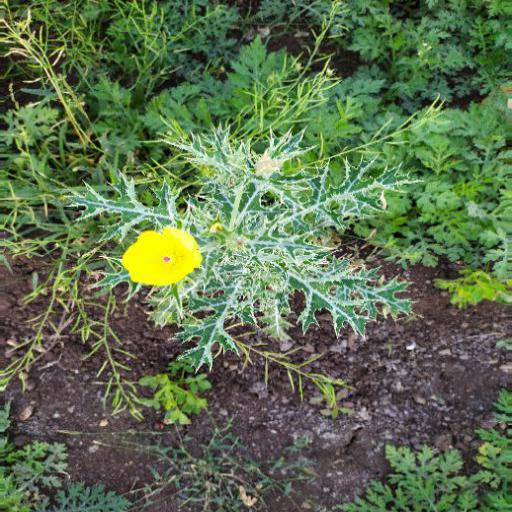weed: (8, 4, 500, 390)
